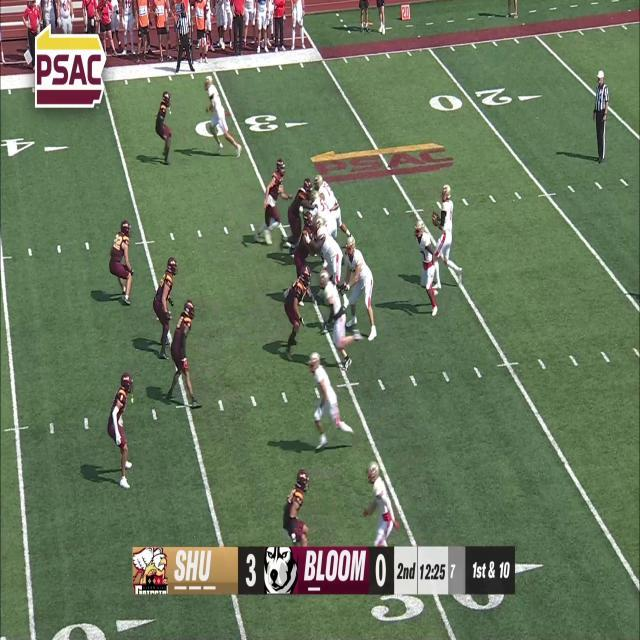football: (432, 212, 438, 226)
